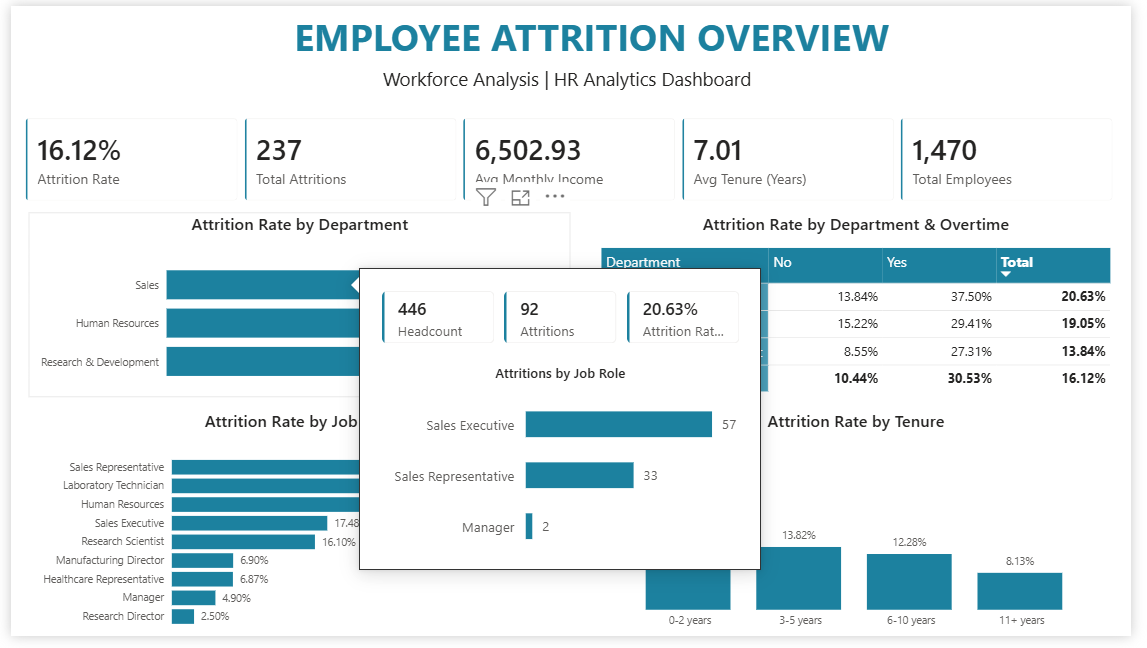

The dashboard page shown, as its layout file describes it:
{"tool":"powerbi","page":{"name":"Executive Overview","canvas":[1280,720],"ordinal":0},"visuals":[{"type":"cardVisual","fields":{"Data":["employees.Attrition Rate %","employees.Attritions","employees.Avg Monthly Income","employees.Avg Years At Company","employees.Headcount"]},"box":[0,111.4,1280,128.6],"z":0},{"type":"clusteredBarChart","fields":{"Category":["employees.Department"],"Y":["employees.Attrition Rate %"]},"box":[20,235.7,620,211.4],"z":1000},{"type":"clusteredBarChart","fields":{"Category":["employees.job_role"],"Y":["employees.Attrition Rate %"]},"box":[20,461.4,620,258.6],"z":2000},{"type":"clusteredColumnChart","fields":{"Category":["employees.tenure_band"],"Y":["employees.Attrition Rate %"]},"box":[670,461.4,591.4,258.6],"z":3000},{"type":"pivotTable","title":"Attrition Rate by Department & Overtime","fields":{"Rows":["employees.Department"],"Columns":["employees.over_time"],"Values":["employees.Attrition Rate %"]},"box":[670,235.7,591.4,211.4],"z":4000},{"type":"textbox","box":[318.6,0,702.9,77.1],"z":5000},{"type":"textbox","box":[420,62.9,440,48.6],"z":6000}]}

Visuals, with their boxes in screenshot pixels (x1, y1, x2, y2), scaled from the page's 1280x720 canvas onto the 1147x648 screenshot:
cardVisual - employees.Attrition Rate % x employees.Attritions: (0, 100, 1146, 216)
clusteredBarChart - employees.Department x employees.Attrition Rate %: (18, 212, 574, 402)
clusteredBarChart - employees.job_role x employees.Attrition Rate %: (18, 415, 574, 647)
clusteredColumnChart - employees.tenure_band x employees.Attrition Rate %: (600, 415, 1130, 647)
"Attrition Rate by Department & Overtime" pivotTable: (600, 212, 1130, 402)
textbox: (285, 0, 915, 69)
textbox: (376, 57, 771, 100)
